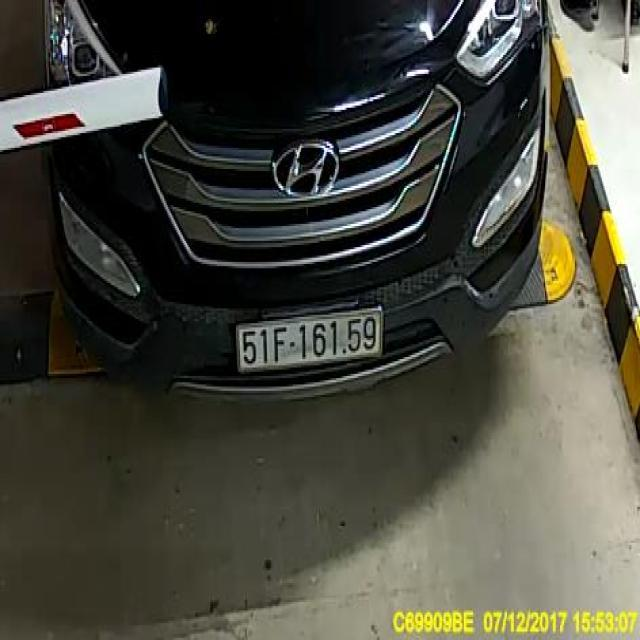bien_so_oto: (238, 308, 381, 370)
